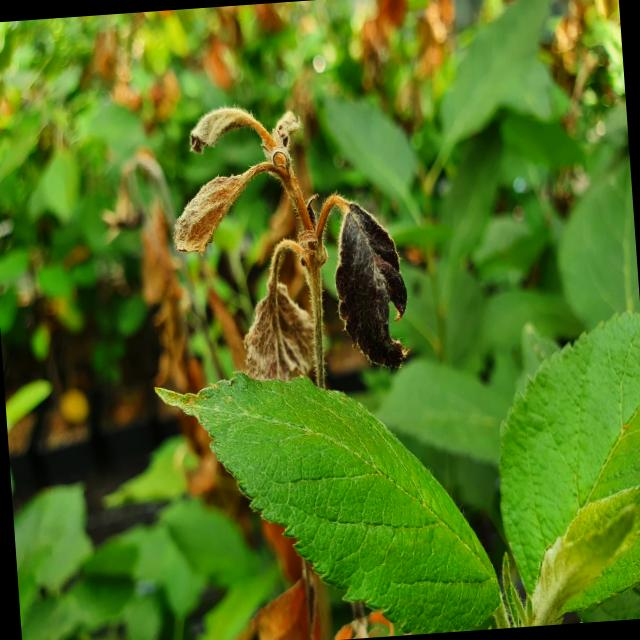-FireBlight-: (172, 109, 413, 396)
